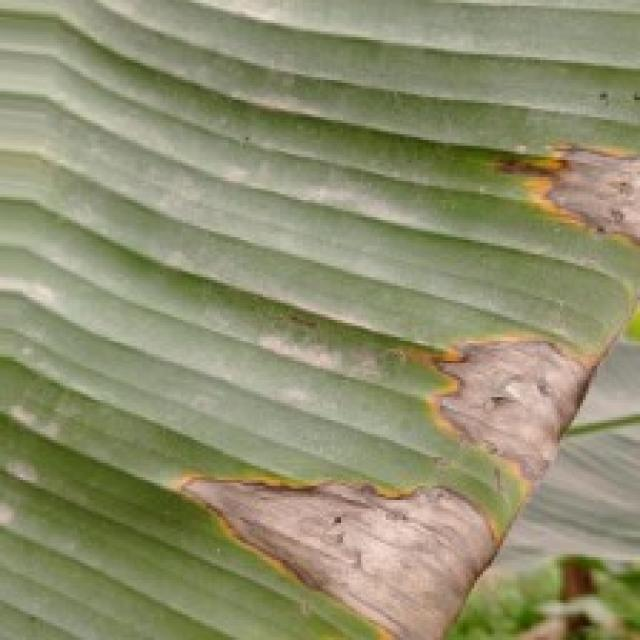Bacterial_spot: (131, 452, 506, 640), (399, 313, 610, 486), (476, 116, 640, 279)
